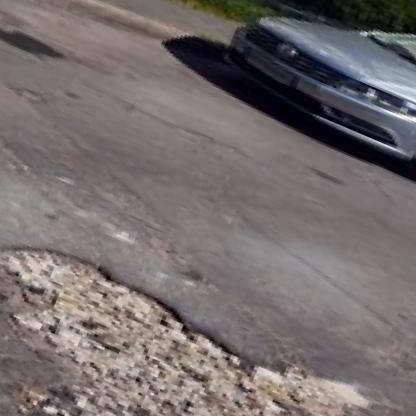pothole: (0, 221, 387, 416)
